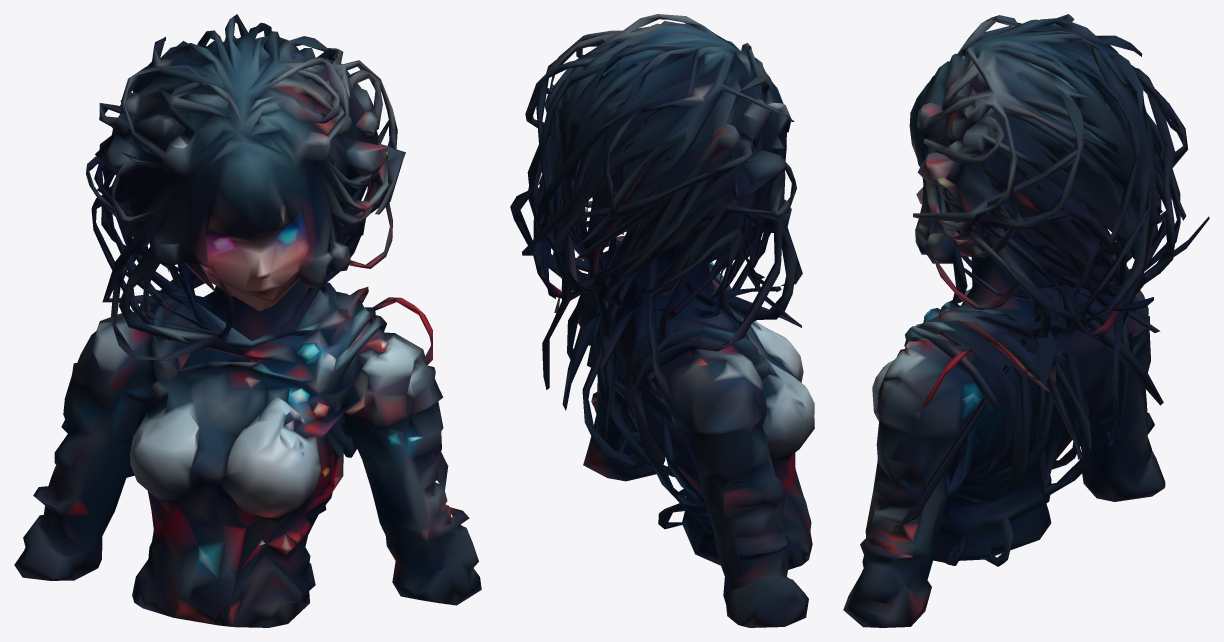
Rendered from 01a1b77a-637f-75dc-8bf3-c46b252aeb3e.glb.
3 renders of one model, left to right at view 1: azimuth 30°, elevation 25°; view 2: azimuth 150°, elevation 25°; view 3: azimuth 270°, elevation 25°, orthographic. The views are drawn at different scales.
Parts seen in each view (by area): view 1: node_0; view 2: node_0; view 3: node_0.
Part boxes in pixels (bbox=[...]): node_0: bbox=[14, 14, 481, 627]; node_0: bbox=[510, 14, 814, 627]; node_0: bbox=[843, 14, 1209, 627].
Bounding box in the file's own units: 0.6182 × 0.9188 × 0.5812.
